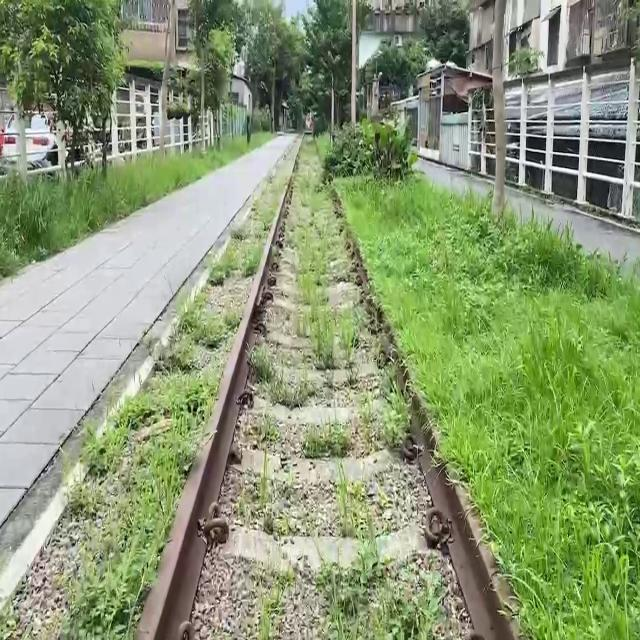rail-track: (191, 140, 471, 639)
